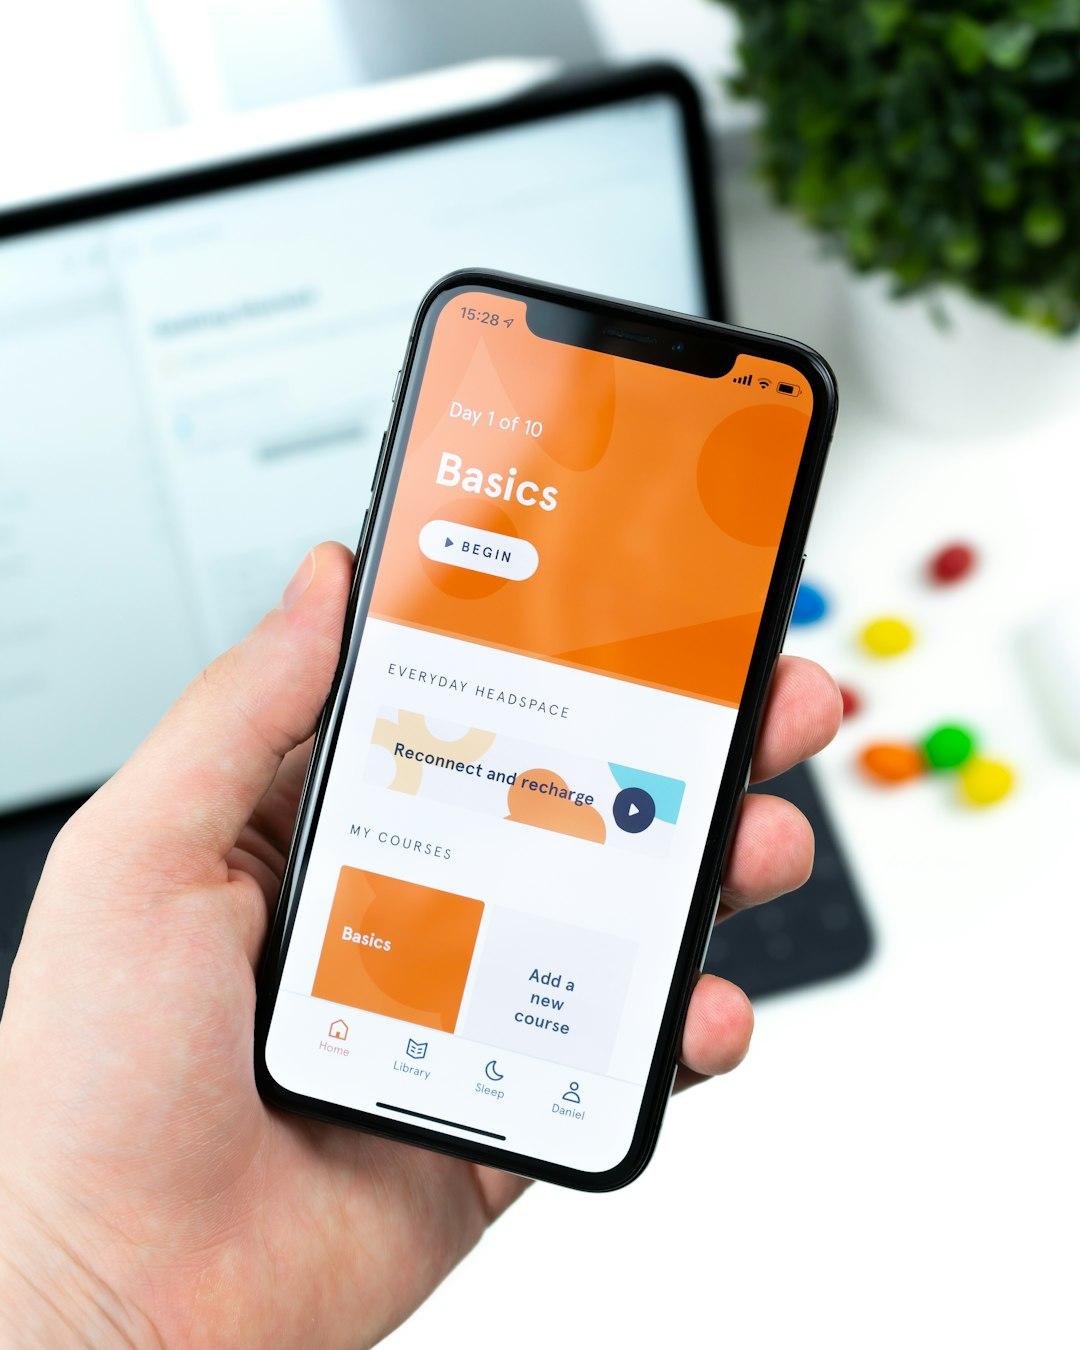phone: (242, 268, 840, 1199)
